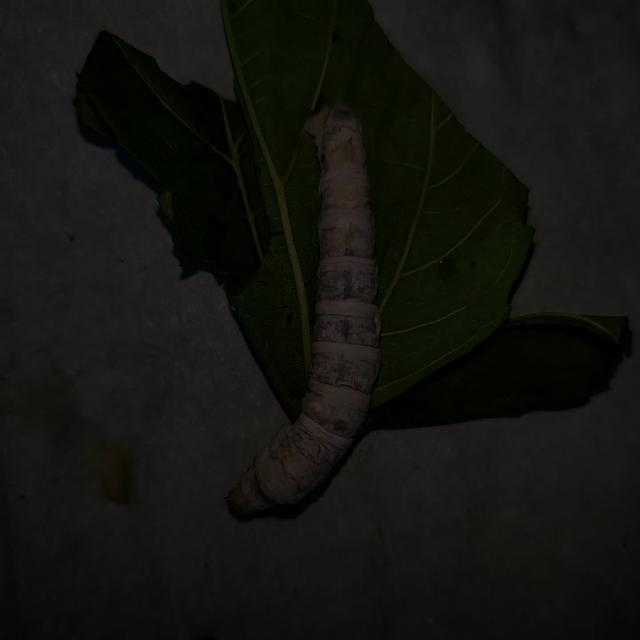Grasserie: (211, 75, 399, 538)
